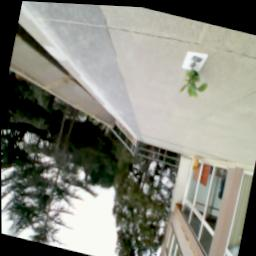herb: (180, 65, 210, 101)
